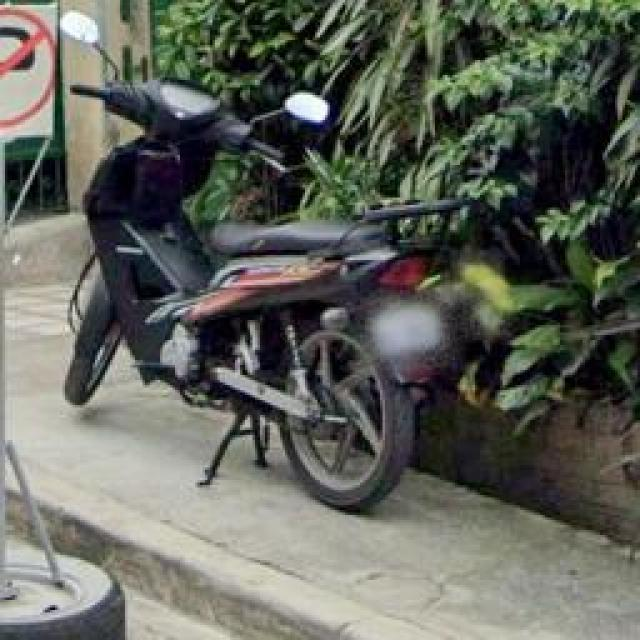motorbike: (64, 77, 440, 512)
